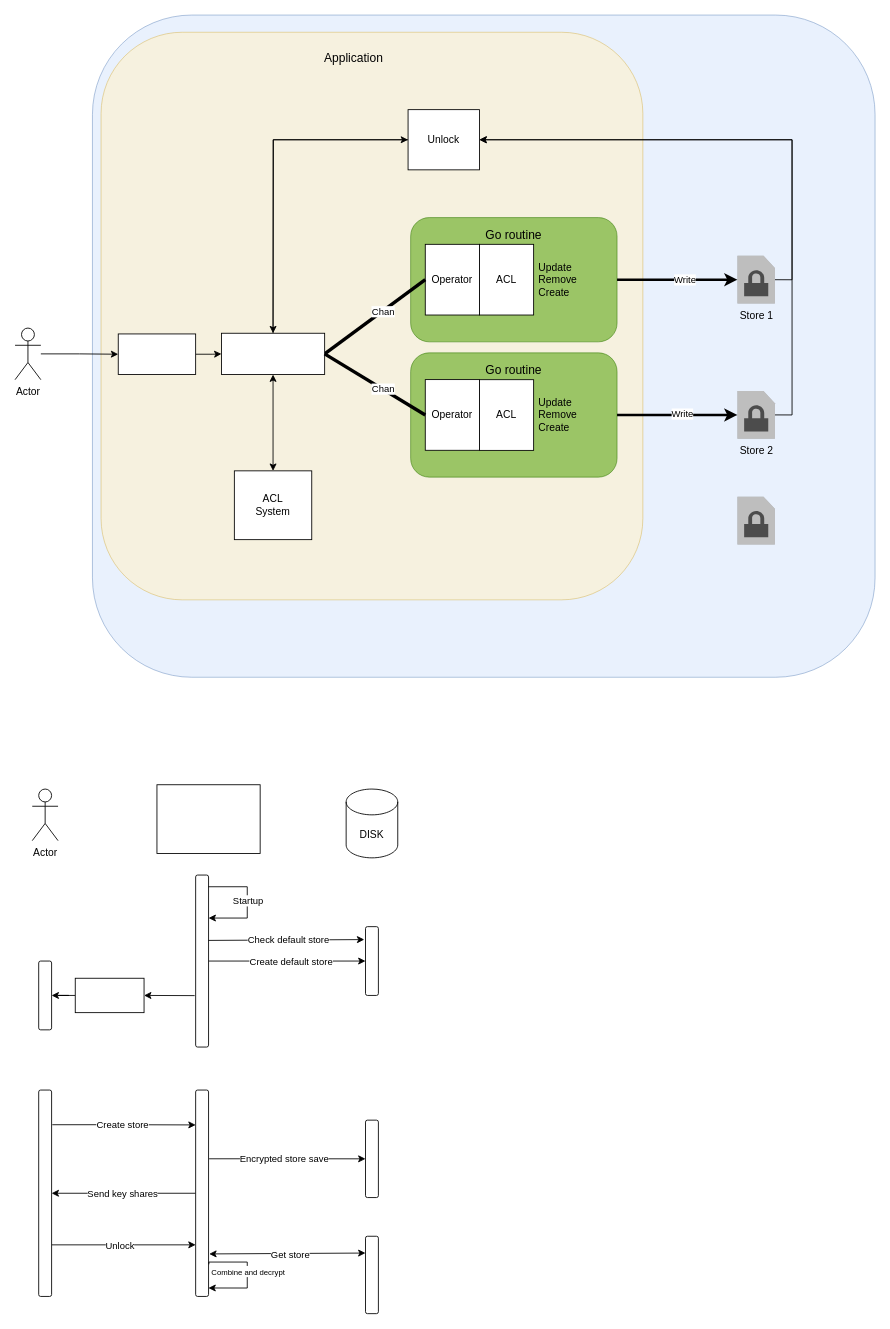
This 890x1329 diagram has some shape labels left out. Here are the shapes that lost their labels. From the top down, the centre of each, then its label:
(156,354): Auth MIddleware
(273,353): Server
(756,520): Store 3
(208,819): Service
(109,995): Print JWT root & 5 shares of store key
